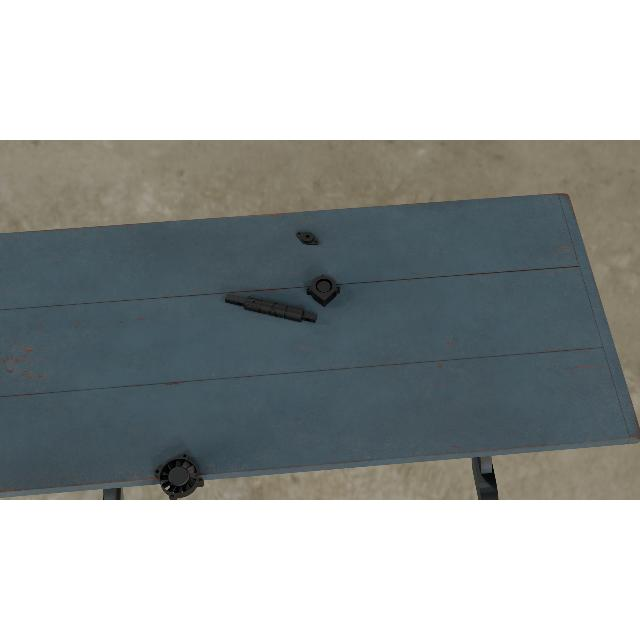Pieza1: (224, 288, 318, 328)
Pieza2: (294, 227, 322, 249)
Pieza3: (305, 272, 341, 308)
Pieza4: (152, 452, 206, 501)
